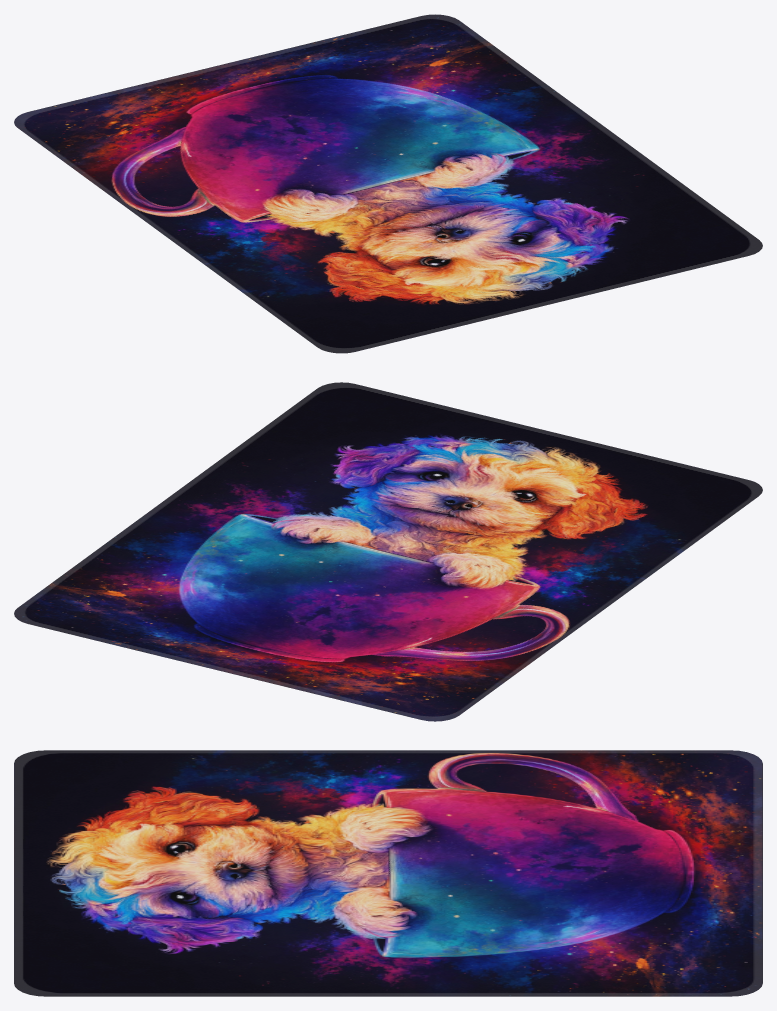
Rendered from Full Image 4x3 Grid.fbx.
3 renders of one model, top to bottom at view 1: azimuth 30°, elevation 25°; view 2: azimuth 150°, elevation 25°; view 3: azimuth 270°, elevation 25°, orthographic. The views are drawn at different scales.
Parts seen in each view (by area): view 1: Grid_4x5_Full_Image; view 2: Grid_4x5_Full_Image; view 3: Grid_4x5_Full_Image.
Boxes of the visible parts, x1,y1,x2,y2 form: Grid_4x5_Full_Image: (14,14,762,353); Grid_4x5_Full_Image: (14,382,762,721); Grid_4x5_Full_Image: (14,750,762,996).
Bounding box in the file's own units: 18.61 × 0 × 23.92.
Materials: 1 (1 with a texture image).
